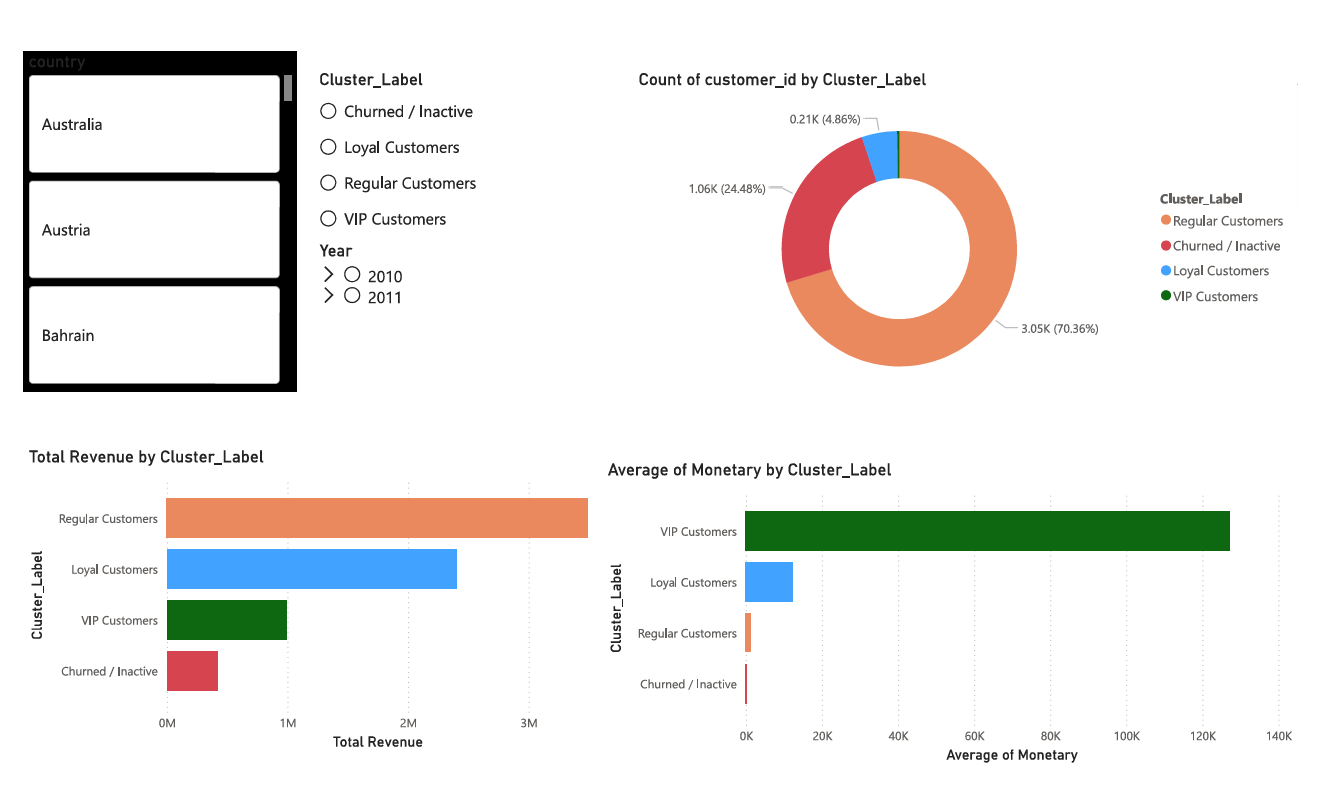

Layout of this report page (visuals, bound fields, positions):
{"tool":"powerbi","page":{"name":"Page 2","canvas":[1280,720],"ordinal":1},"visuals":[{"type":"donutChart","fields":{"Category":["public customer_segmentation.Cluster_Label"],"Y":["CountNonNull(public customer_segmentation.customer_id)"]},"box":[613.3,18.3,666.7,341.7],"z":0},{"type":"barChart","fields":{"Y":["public customer_segmentation.Total Revenue"],"Category":["public customer_segmentation.Cluster_Label"]},"box":[0,396.7,581.7,310],"z":1},{"type":"barChart","fields":{"Y":["Avg(public customer_segmentation.Monetary)"],"Category":["public customer_segmentation.Cluster_Label"]},"box":[581.7,410,698.3,310],"z":2},{"type":"advancedSlicerVisual","fields":{"Values":["public retail.country"]},"box":[0,0,275,341.7],"z":3},{"type":"listSlicer","fields":{"Values":["public customer_segmentation.Cluster_Label"]},"box":[291.7,18.3,306.7,323.3],"z":4},{"type":"listSlicer","fields":{"Values":["public retail.invoicedate.Variation.Date Hierarchy.Year","public retail.invoicedate.Variation.Date Hierarchy.Quarter","public retail.invoicedate.Variation.Date Hierarchy.Month","public retail.invoicedate.Variation.Date Hierarchy.Day"]},"box":[291.7,190,300,198.3],"z":5}]}

Visuals, with their boxes on the page's 1280x720 design canvas (x1, y1, x2, y2). These are canvas units, not pixel positions in the 1317x811 screenshot, which may show the page scaled, cropped or inside an application window:
donutChart - public customer_segmentation.Cluster_Label x CountNonNull(public customer_segmentation.customer_id): x1=613 y1=18 x2=1280 y2=360
barChart - public customer_segmentation.Total Revenue x public customer_segmentation.Cluster_Label: x1=0 y1=397 x2=582 y2=707
barChart - Avg(public customer_segmentation.Monetary) x public customer_segmentation.Cluster_Label: x1=582 y1=410 x2=1280 y2=720
advancedSlicerVisual - public retail.country: x1=0 y1=0 x2=275 y2=342
listSlicer - public customer_segmentation.Cluster_Label: x1=292 y1=18 x2=598 y2=342
listSlicer - public retail.invoicedate.Variation.Date Hierarchy.Year x public retail.invoicedate.Variation.Date Hierarchy.Quarter: x1=292 y1=190 x2=592 y2=388
